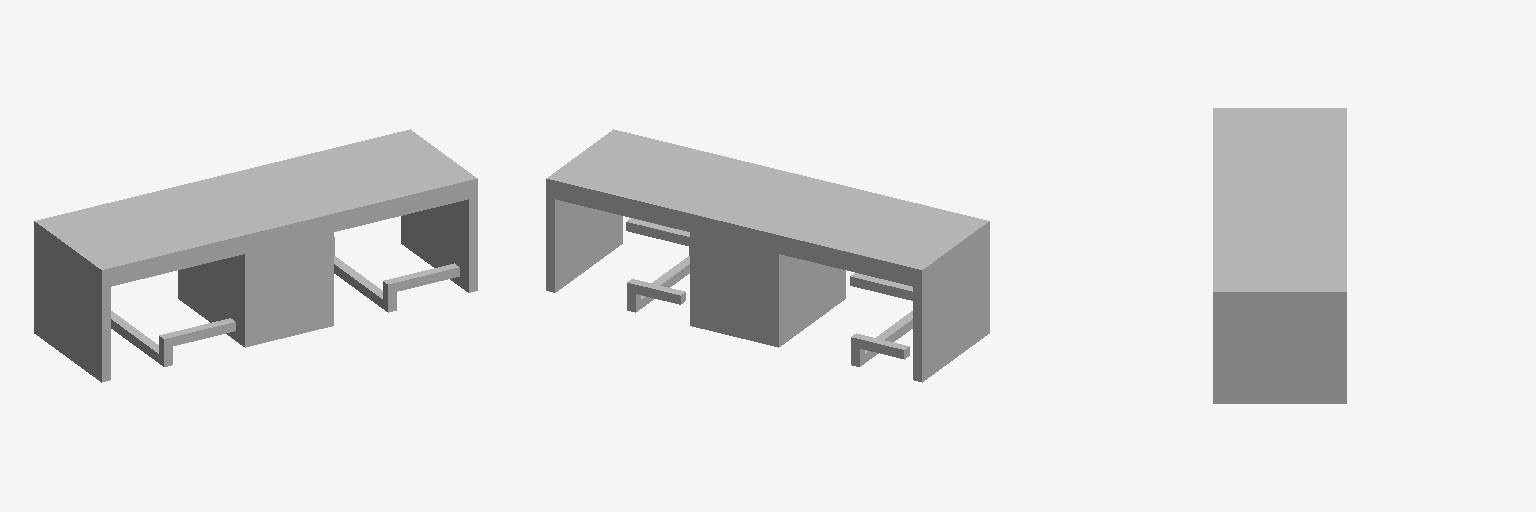
The model's file is Check.obj.
The picture shows the model from 3 angles: view 1: azimuth 30°, elevation 25°; view 2: azimuth 150°, elevation 25°; view 3: azimuth 270°, elevation 25°; orthographic projection.
Parts seen in each view (by area): view 1: object 1; view 2: object 1; view 3: object 1.
Boxes of the visible parts, <box> form: object 1: <box>34,129,477,382</box>; object 1: <box>546,129,989,382</box>; object 1: <box>1213,108,1346,403</box>.
Size of the model in its own units: 4.2 by 1.2 by 1.3.